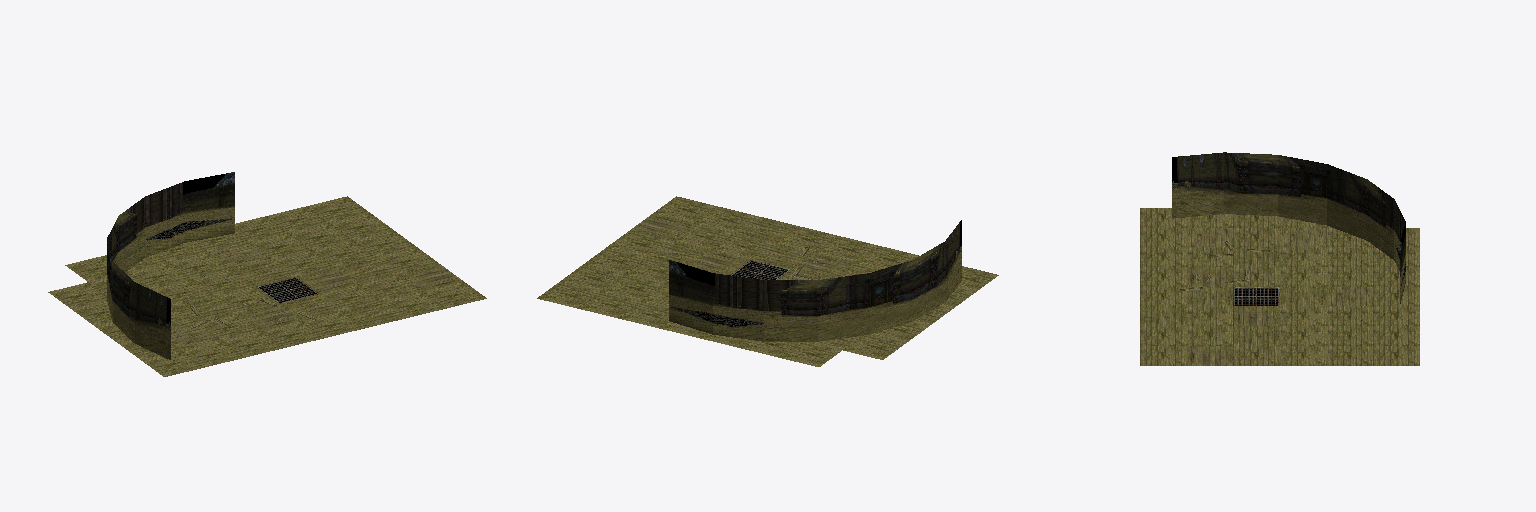
The picture shows the model from 3 angles: view 1: azimuth 30°, elevation 25°; view 2: azimuth 150°, elevation 25°; view 3: azimuth 270°, elevation 25°; orthographic projection.
Visible parts, largest first — view 1: b39; view 2: b39; view 3: b39.
Part boxes in pixels (left/top/right/bottom): b39: left=48, top=172, right=486, bottom=376; b39: left=537, top=196, right=998, bottom=366; b39: left=1140, top=152, right=1419, bottom=365.
Bounding box in the file's own units: 288 × 52.49 × 216.
2 materials, 2 textured.